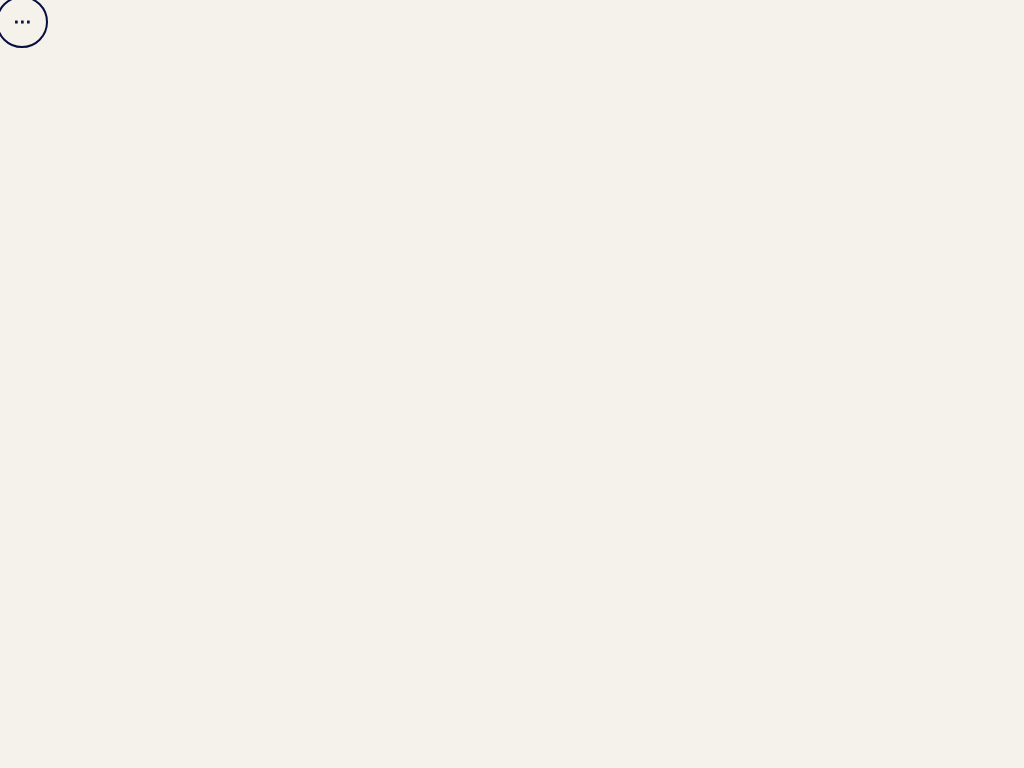
Scenario: suppression d'une conversation › confirme puis appelle hide_exchange
The width and height of the screenshot is (1024, 768).
Later steps or results of the test are not shown.
Press Enter in the button named "Plus d'actions pour la conversation avec Léa", box [0,0,44,44]
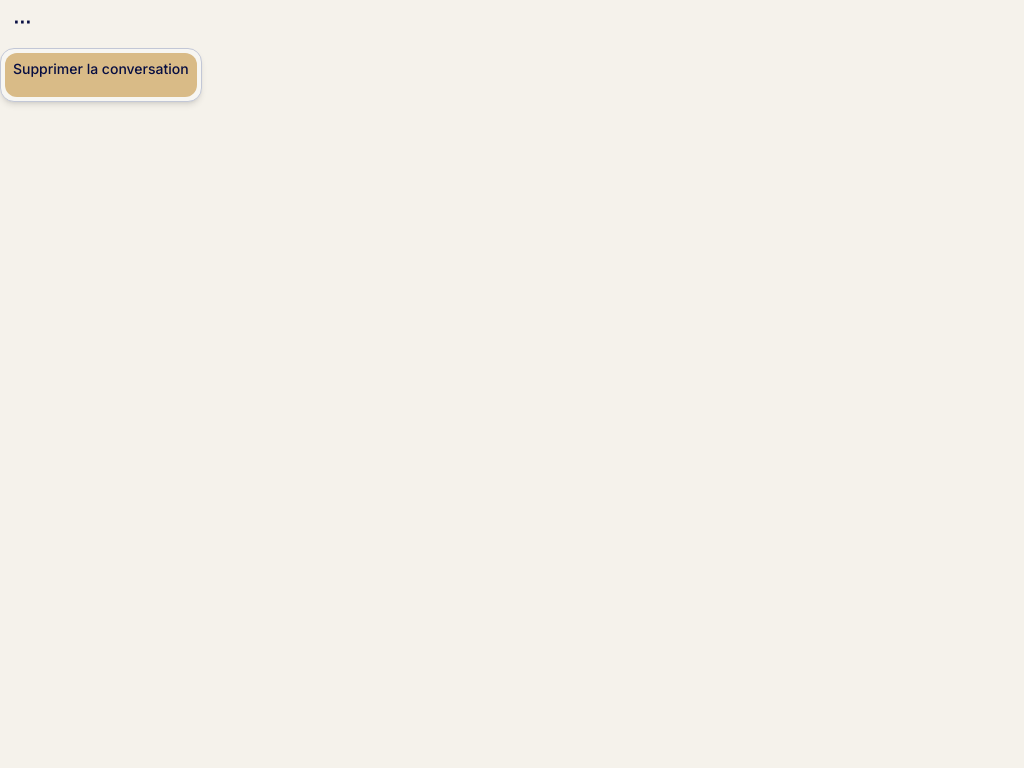
Click the menu item "Supprimer la conversation".
click(101, 75)  # box [5,53,197,97]
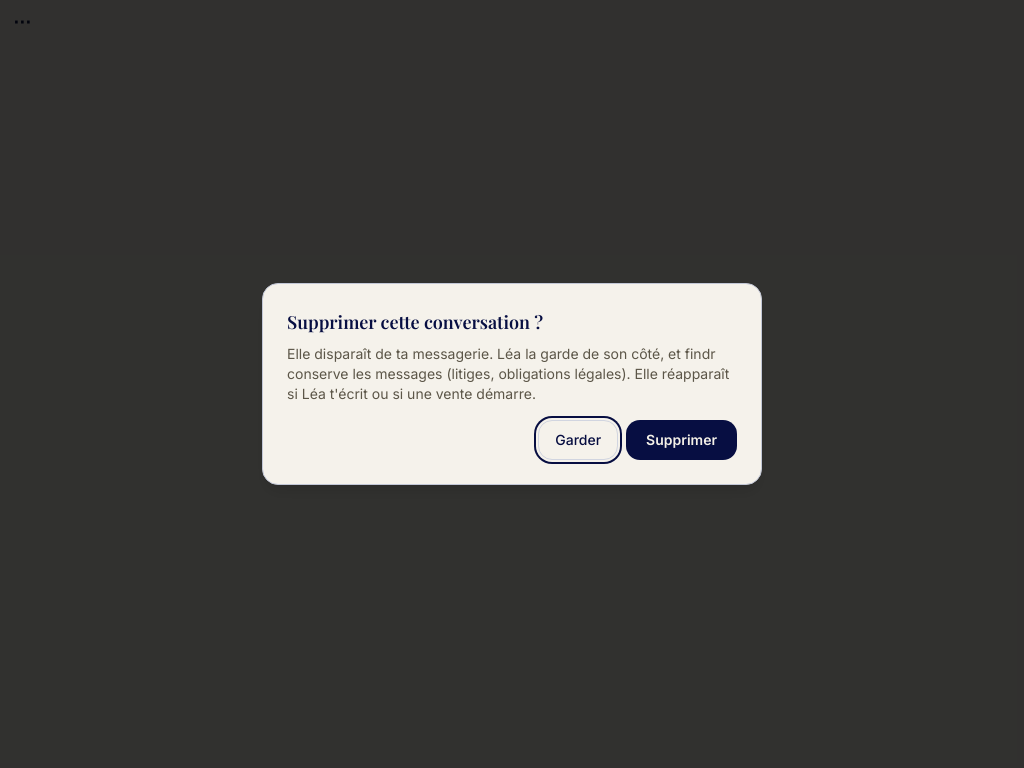
Expected: the heading "Supprimer cette conversation ?" is shown, [287,310,543,334]
Expected: the dialog shows "Elle disparaît de ta messagerie. Léa la garde de son côté, et findr conserve les messages (litiges, obligations légales). Elle réapparaît si Léa t'écrit ou si u", [287,345,729,402]
